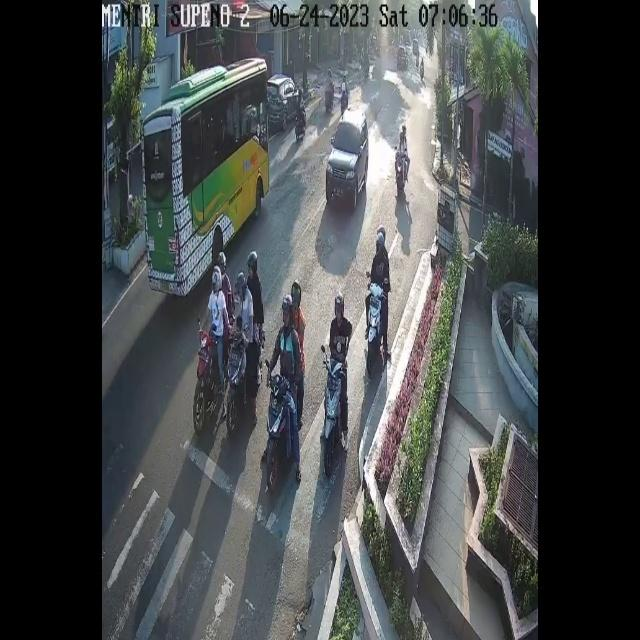bus: (257, 368, 304, 490), (223, 328, 265, 442), (194, 328, 222, 439), (322, 356, 346, 476), (366, 283, 388, 385), (391, 147, 410, 195), (296, 100, 308, 144), (324, 83, 334, 112), (340, 89, 348, 115)
car: (143, 57, 268, 306)
motorcycle: (326, 108, 368, 206), (263, 73, 299, 132), (396, 46, 408, 74)
